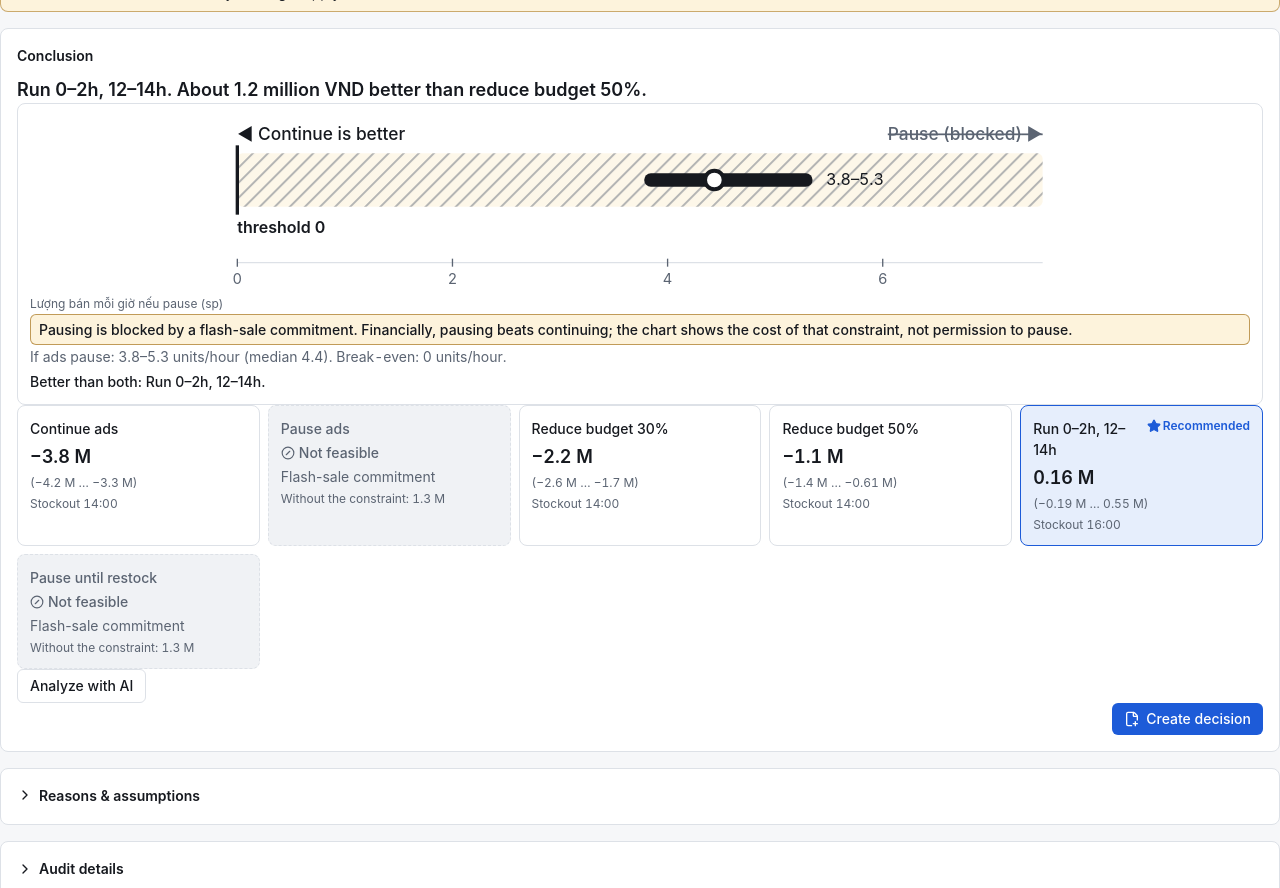
Compare screen · CD002 on 11.11 (API snapshot fixture) › decision form is disabled in fixture mode with the reason shown
(page scrolled)
Click the button "Create decision" at (1188, 719), box [1112,703,1263,735]
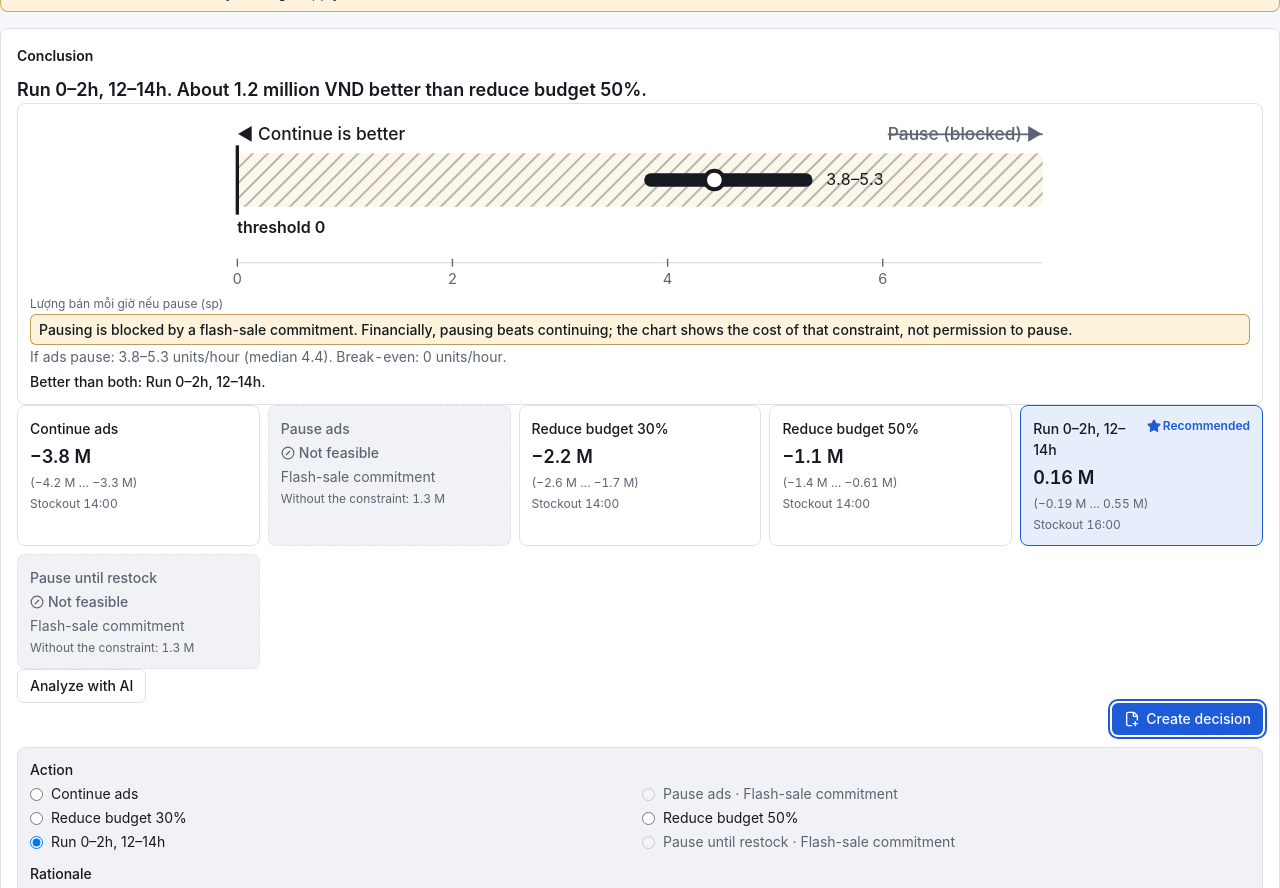
Expected: the radio button labelled "Pause ads · Flash-sale commitment" is disabled, [642,788,655,801]
Expected: the radio button labelled "Run 0–2h, 12–14h" is checked, [30,836,43,849]
